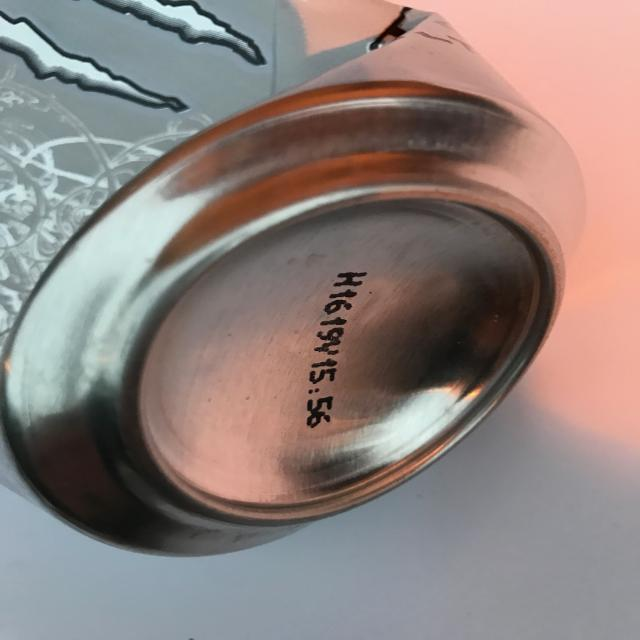metal: (1, 1, 584, 559)
